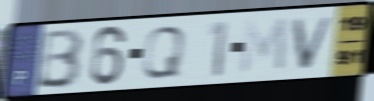1: (207, 18, 231, 79)
6: (89, 24, 128, 87)
B: (35, 26, 86, 91)
M: (237, 15, 291, 77)
Q: (139, 24, 189, 81)
V: (291, 13, 338, 72)
